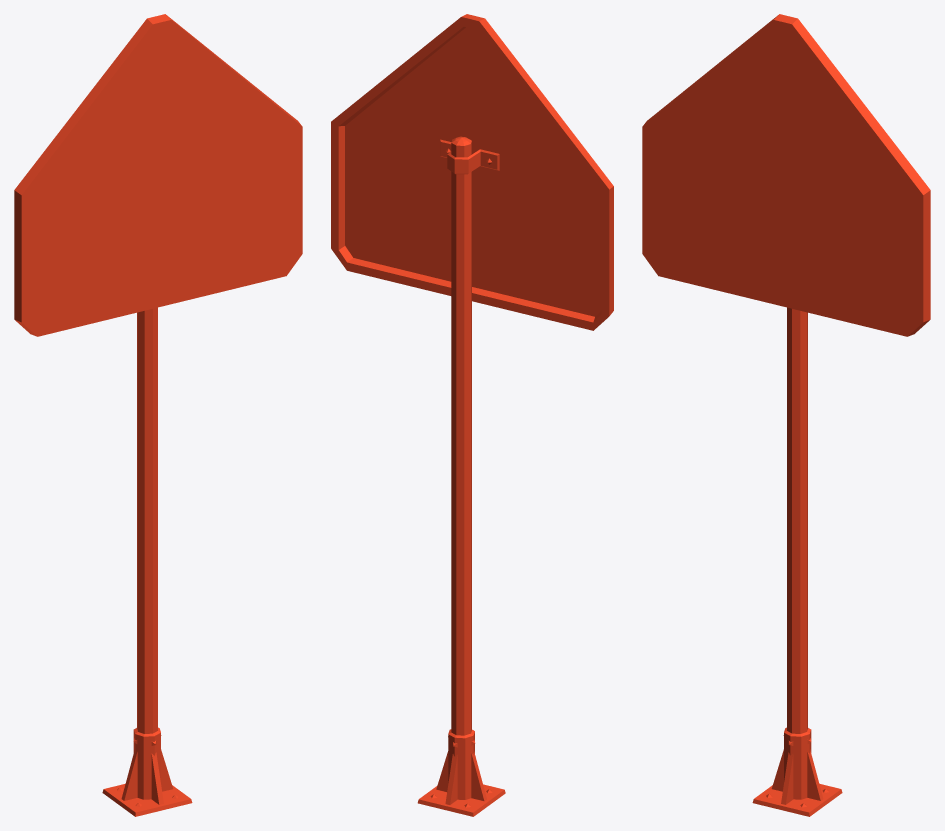
File: SM_Sign_Children_B_City.fbx
The picture shows the model from 3 angles, left to right: view 1: azimuth 30°, elevation 25°; view 2: azimuth 150°, elevation 25°; view 3: azimuth 330°, elevation 25°; orthographic projection.
Visible parts, largest first — view 1: SM_Sign_Children_B_City; view 2: SM_Sign_Children_B_City; view 3: SM_Sign_Children_B_City.
Part boxes in pixels (x1=…): SM_Sign_Children_B_City: x1=14, y1=14, x2=302, y2=816; SM_Sign_Children_B_City: x1=331, y1=14, x2=613, y2=816; SM_Sign_Children_B_City: x1=642, y1=14, x2=930, y2=816.
Size of the model in its own units: 0.9146 by 2.43 by 0.1839.
